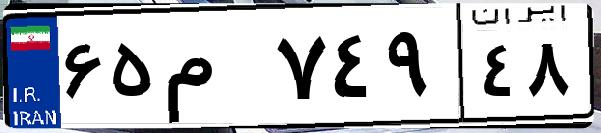4: (330, 28, 385, 110), (475, 38, 525, 113)
5: (110, 28, 158, 98)
6: (57, 26, 110, 100)
7: (270, 28, 330, 110)
8: (525, 38, 570, 115)
9: (385, 28, 445, 110)
م: (158, 20, 270, 120)
